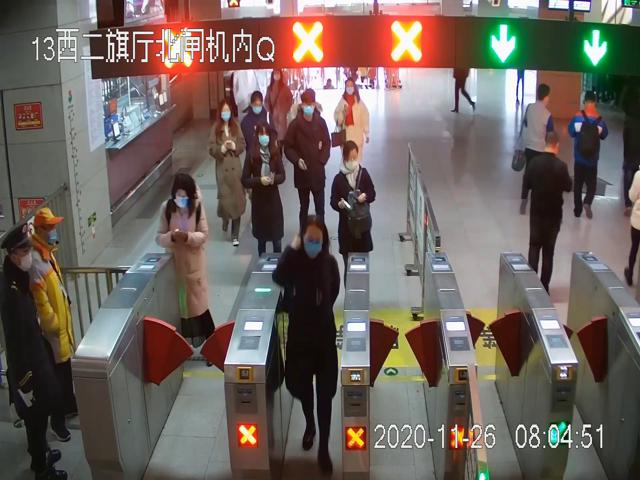person: (273, 214, 339, 474), (1, 219, 66, 480), (26, 205, 80, 443), (155, 172, 215, 367), (523, 131, 573, 296), (285, 88, 331, 233), (242, 123, 286, 255), (210, 97, 248, 245), (330, 137, 377, 253), (333, 77, 371, 166), (262, 69, 294, 159)
